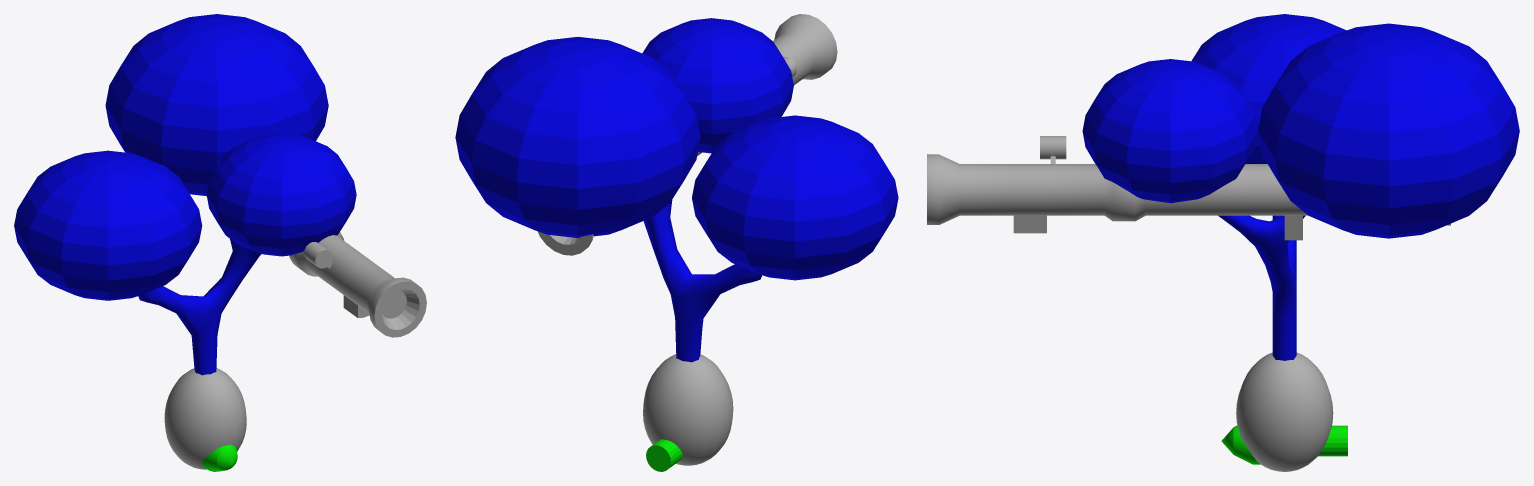
The picture shows the model from 3 angles, left to right: view 1: azimuth 30°, elevation 25°; view 2: azimuth 150°, elevation 25°; view 3: azimuth 270°, elevation 25°; orthographic projection. The views are drawn at different scales.
Visible parts, largest first — view 1: UV_Tree, UV_Baz_Base, UV_Egg, Baz_Proj; view 2: UV_Tree, UV_Egg, UV_Baz_Base, Baz_Proj; view 3: UV_Tree, UV_Baz_Base, UV_Egg, Baz_Proj.
Boxes of the visible parts, x1,y1,x2,y2 form: UV_Tree: (14,14,356,375); UV_Baz_Base: (289,232,426,337); UV_Egg: (164,368,246,469); Baz_Proj: (202,444,237,471); UV_Tree: (455,18,898,362); UV_Egg: (643,354,733,465); UV_Baz_Base: (537,14,837,255); Baz_Proj: (646,439,682,471); UV_Tree: (1082,14,1519,360); UV_Baz_Base: (927,136,1450,240); UV_Egg: (1236,352,1333,471); Baz_Proj: (1221,425,1347,464).
Size of the model in its own units: 18.61 by 21.09 by 24.56.
